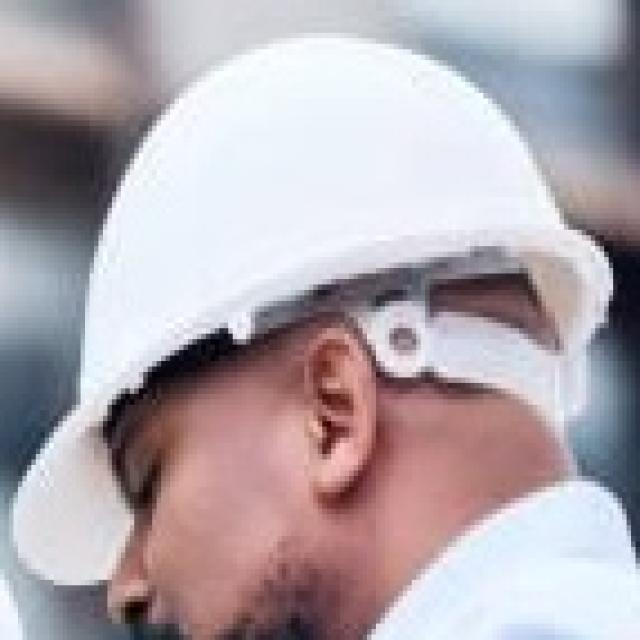helmet_white: (2, 3, 638, 637)
